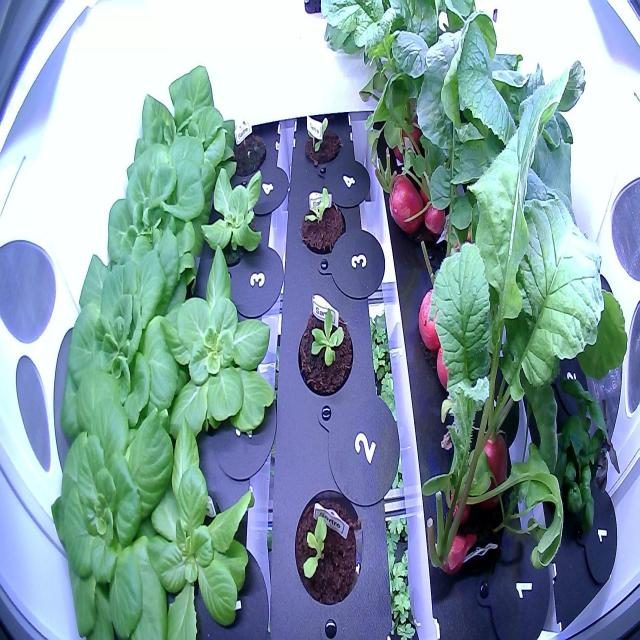pod: (223, 114, 268, 182)
young: (46, 382, 182, 640), (54, 224, 202, 455), (149, 235, 286, 447), (136, 407, 256, 640), (126, 46, 240, 224), (100, 125, 222, 288), (288, 479, 369, 612), (195, 158, 273, 266), (288, 288, 358, 402), (296, 177, 349, 265), (296, 107, 346, 178)
